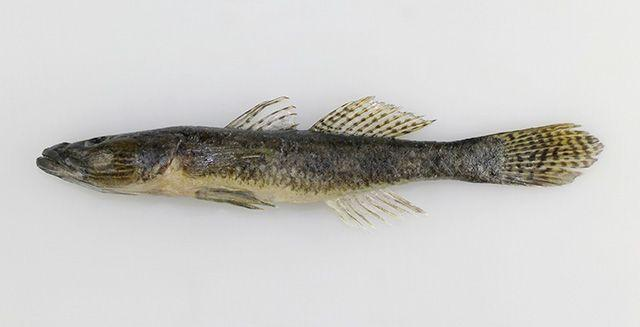Goby: (37, 100, 603, 219)
